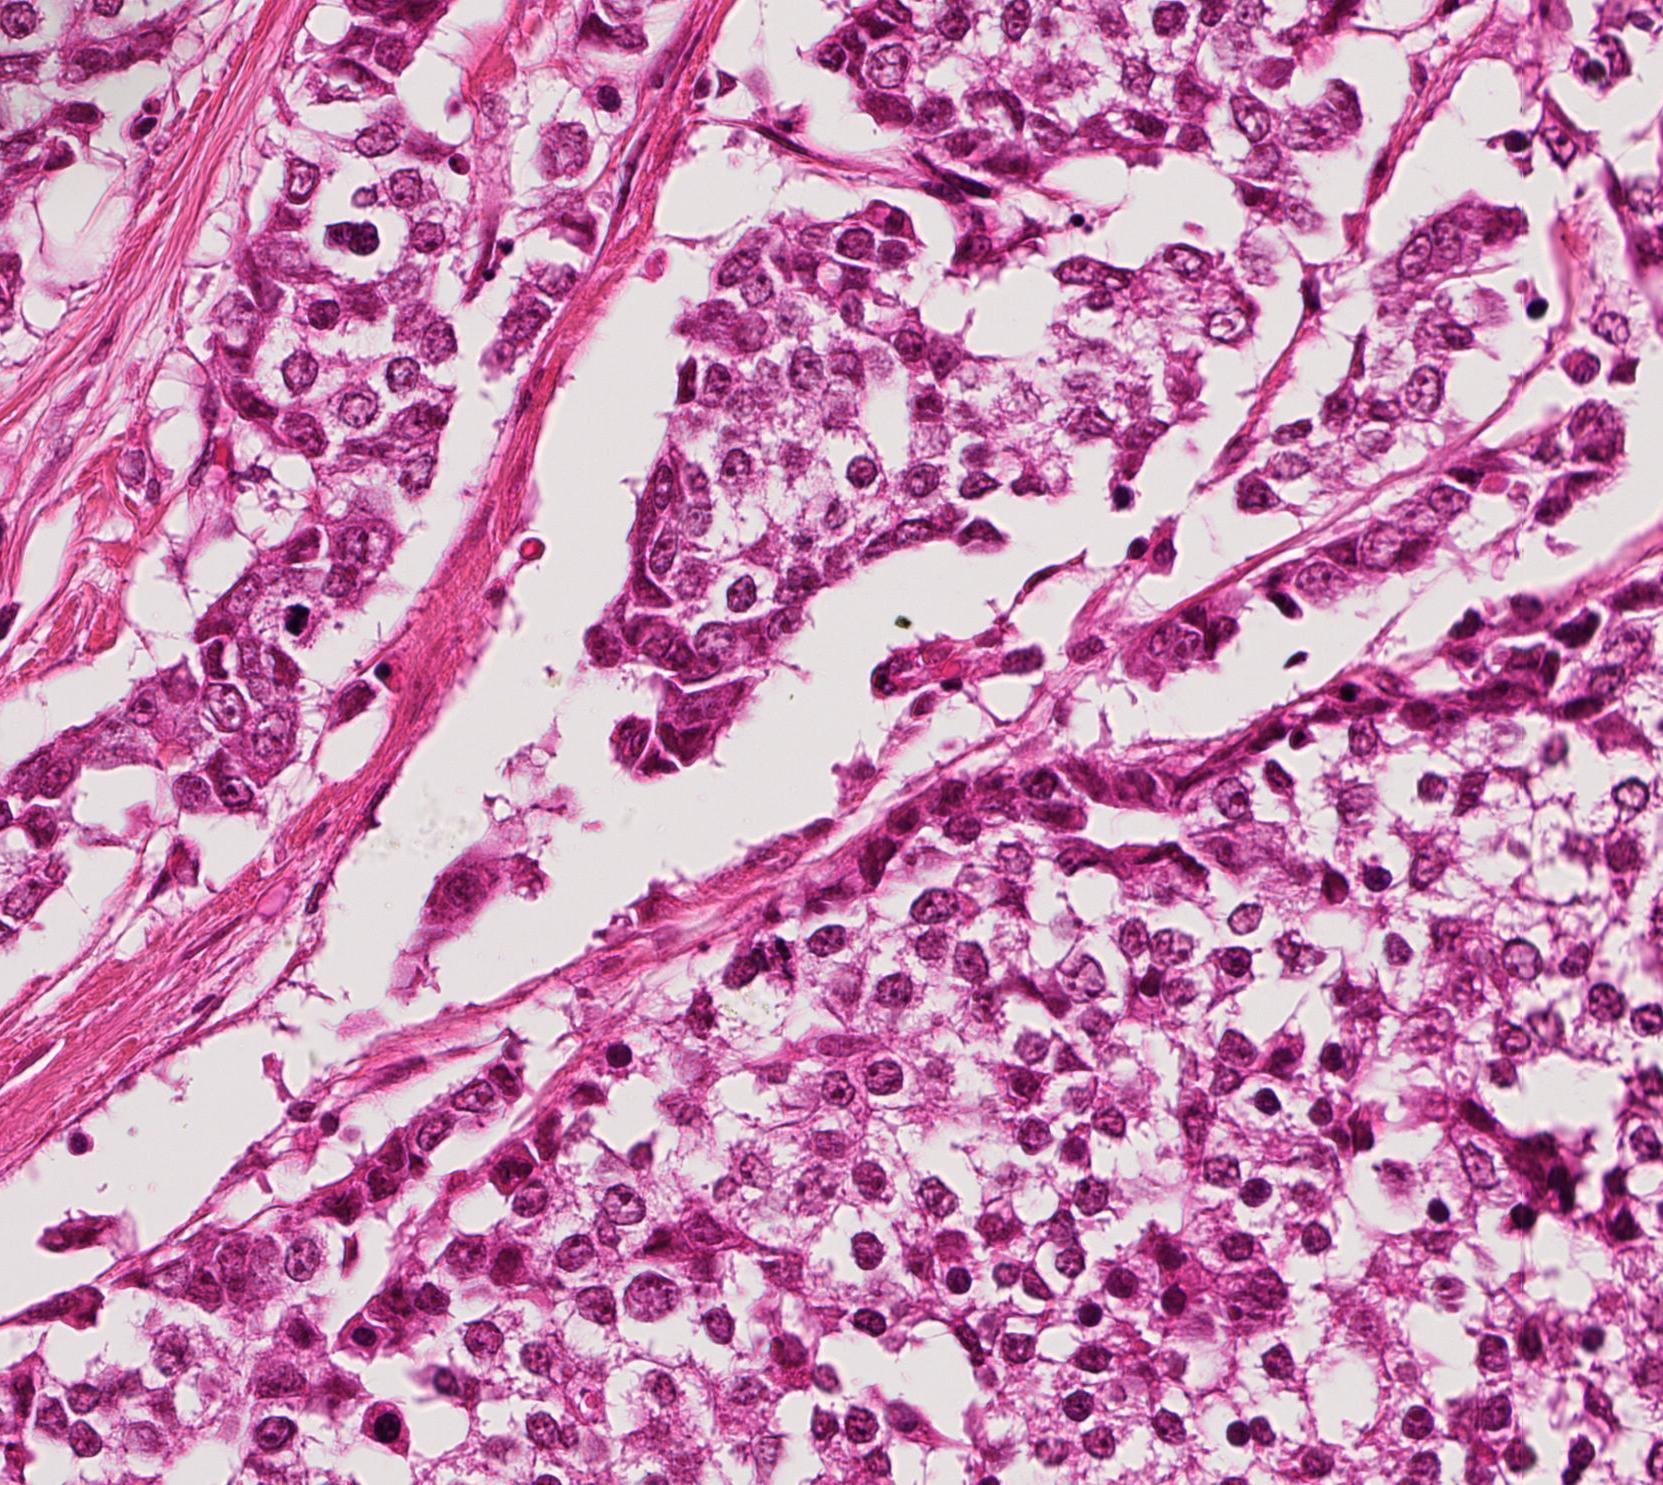mitosis: (264, 591, 324, 649)
